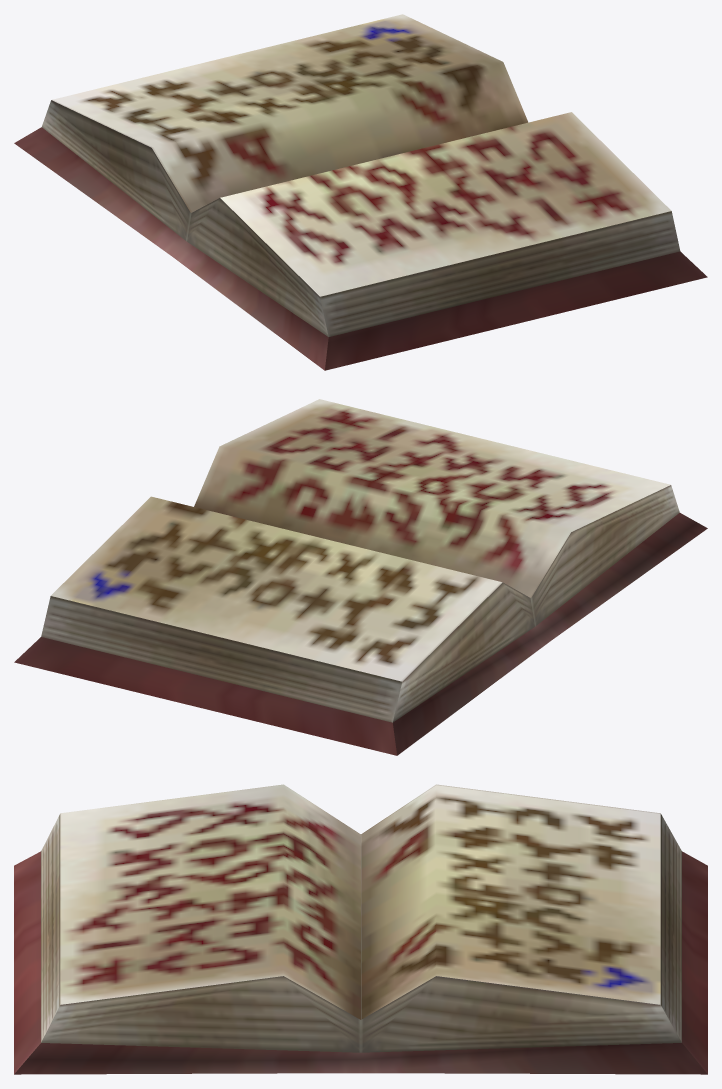
Rendered from bookmediumopen05.obj.
3 views of the same model, one above another, from view 1: azimuth 30°, elevation 25°; view 2: azimuth 150°, elevation 25°; view 3: azimuth 270°, elevation 25° (orthographic). The views are drawn at different scales.
Parts seen in each view (by area): view 1: bookmediumopen05.m2; view 2: bookmediumopen05.m2; view 3: bookmediumopen05.m2.
Boxes of the visible parts, left/top/right/bottom form: bookmediumopen05.m2: left=14, top=14, right=707, bottom=370; bookmediumopen05.m2: left=14, top=399, right=707, bottom=755; bookmediumopen05.m2: left=14, top=784, right=707, bottom=1074.
Size of the model in its own units: 0.6425 by 0.1292 by 0.9025.
Materials: 1 (1 with a texture image).
